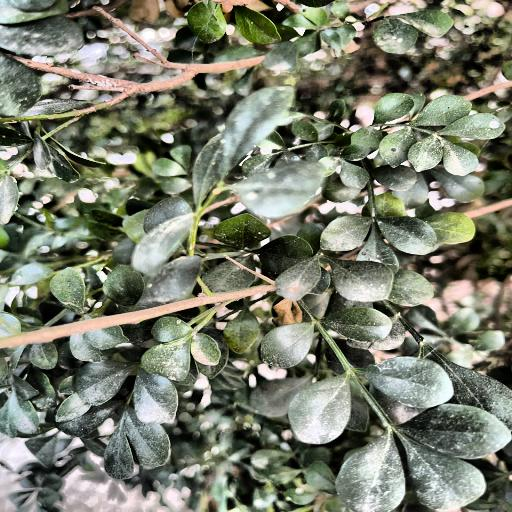la xanh: (32, 99, 469, 450)
